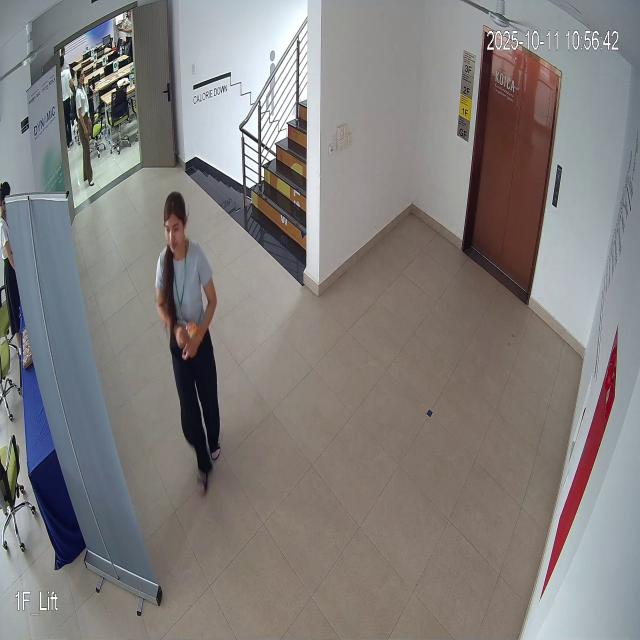face: (160, 191, 192, 257)
